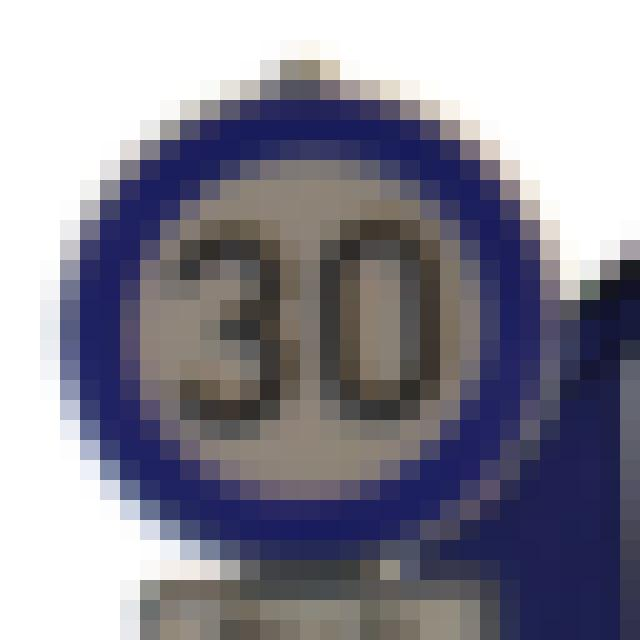SPEED LIMIT 30: (134, 88, 528, 540)
